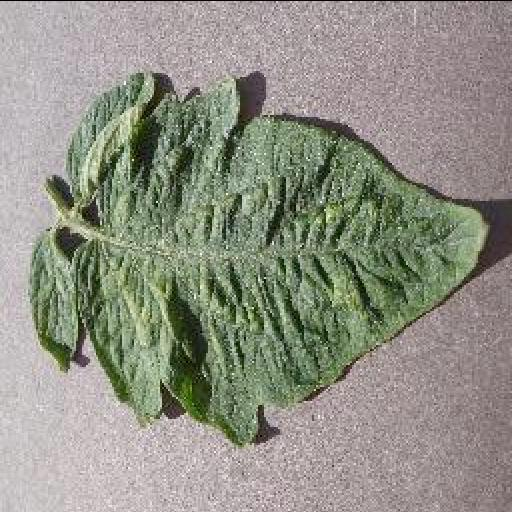disease_tomato: (26, 71, 486, 449)
